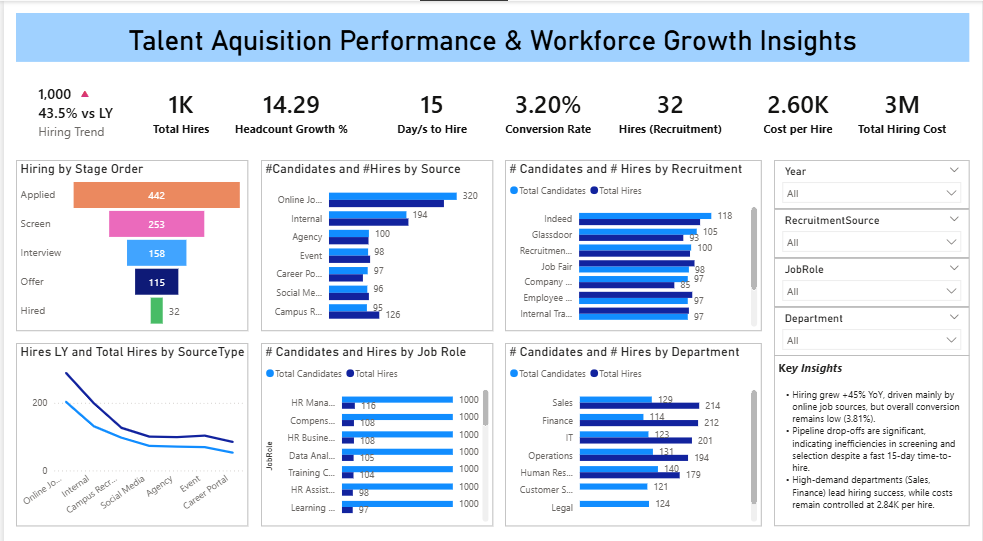

The dashboard page shown, as its layout file describes it:
{"tool":"powerbi","page":{"name":"Hiring & Growth","canvas":[1280,720],"ordinal":5},"visuals":[{"type":"card","fields":{"Values":["DimDepartment.Dynamic Title5"]},"box":[16,16,1248,64],"z":0},{"type":"clusteredBarChart","title":"# Candidates and # Hires by Recruitment","fields":{"Y":["FactHiring.Total Candidates","FactHiring.Total Hires"],"Category":["Recruitment.RecruitmentSource"]},"box":[656,208,336,224],"z":1000},{"type":"clusteredBarChart","title":"#Candidates and #Hires by Source","fields":{"Y":["FactHiring.Total Candidates","FactHiring.Total Hires"],"Category":["Recruitment.SourceType"]},"box":[336,208,304,224],"z":2000},{"type":"funnel","title":"Hiring by Stage Order","fields":{"Category":["FactRecruitment.Stage"],"Y":["CountNonNull(FactRecruitment.Stage Order)"]},"box":[16,208,304,224],"z":3000},{"type":"textbox","box":[1008,464,256,224],"z":4000},{"type":"clusteredBarChart","title":"# Candidates and Hires by Job Role","fields":{"Category":["DimJobRole.JobRole"],"Y":["FactHiring.Total Candidates","FactHiring.Total Hires"]},"box":[336,448,304,240],"z":5000},{"type":"lineChart","fields":{"Y":["FactHiring.Hires LY","FactHiring.Total Hires"],"Category":["Recruitment.SourceType"]},"box":[16,448,304,240],"z":6000},{"type":"clusteredBarChart","title":"# Candidates and # Hires by Department","fields":{"Category":["DimDepartment.Department"],"Y":["FactHiring.Total Candidates","FactHiring.Total Hires"]},"box":[656,448,336,240],"z":7000},{"type":"slicer","fields":{"Values":["Recruitment.RecruitmentSource"]},"box":[1008,272,256,64],"z":8000},{"type":"slicer","fields":{"Values":["Date.Year"]},"box":[1008,208,256,64],"z":9000},{"type":"cardVisual","fields":{"Data":["FactHiring.Total Hires"]},"box":[160,80,144,128],"z":10000},{"type":"cardVisual","fields":{"Data":["FactHiring.Hiring Trend"]},"box":[16,80,160,128],"z":11000},{"type":"cardVisual","fields":{"Data":["FactHiring.Cost per Hire"]},"box":[960,80,160,128],"z":12000},{"type":"cardVisual","fields":{"Data":["FactHiring.Day/s to Hire"]},"box":[480,80,160,128],"z":13000},{"type":"cardVisual","fields":{"Data":["DimDepartment.Headcount Growth %"]},"box":[272,80,208,128],"z":14000},{"type":"cardVisual","fields":{"Data":["FactHiring.Conversion Rate"]},"box":[624,80,176,128],"z":15000},{"type":"cardVisual","fields":{"Data":["FactHiring.Total Hiring Cost"]},"box":[1088,80,176,128],"z":16000},{"type":"cardVisual","fields":{"Data":["FactHiring.Hires (Recruitment)"]},"box":[768,80,208,128],"z":17000},{"type":"slicer","fields":{"Values":["DimJobRole.JobRole"]},"box":[1008,336,256,64],"z":18000},{"type":"slicer","fields":{"Values":["DimDepartment.Department"]},"box":[1008,400,256,64],"z":19000}]}

Visuals, with their boxes in screenshot pixels (x1, y1, x2, y2), scaled from the page's 1280x720 canvas onto the 983x541 screenshot:
card - DimDepartment.Dynamic Title5: BBox(12, 12, 971, 60)
"# Candidates and # Hires by Recruitment" clusteredBarChart: BBox(504, 156, 762, 325)
"#Candidates and #Hires by Source" clusteredBarChart: BBox(258, 156, 492, 325)
"Hiring by Stage Order" funnel: BBox(12, 156, 246, 325)
textbox: BBox(774, 349, 971, 517)
"# Candidates and Hires by Job Role" clusteredBarChart: BBox(258, 337, 492, 517)
lineChart - FactHiring.Hires LY x FactHiring.Total Hires: BBox(12, 337, 246, 517)
"# Candidates and # Hires by Department" clusteredBarChart: BBox(504, 337, 762, 517)
slicer - Recruitment.RecruitmentSource: BBox(774, 204, 971, 252)
slicer - Date.Year: BBox(774, 156, 971, 204)
cardVisual - FactHiring.Total Hires: BBox(123, 60, 233, 156)
cardVisual - FactHiring.Hiring Trend: BBox(12, 60, 135, 156)
cardVisual - FactHiring.Cost per Hire: BBox(737, 60, 860, 156)
cardVisual - FactHiring.Day/s to Hire: BBox(369, 60, 492, 156)
cardVisual - DimDepartment.Headcount Growth %: BBox(209, 60, 369, 156)
cardVisual - FactHiring.Conversion Rate: BBox(479, 60, 614, 156)
cardVisual - FactHiring.Total Hiring Cost: BBox(836, 60, 971, 156)
cardVisual - FactHiring.Hires (Recruitment): BBox(590, 60, 750, 156)
slicer - DimJobRole.JobRole: BBox(774, 252, 971, 301)
slicer - DimDepartment.Department: BBox(774, 301, 971, 349)
